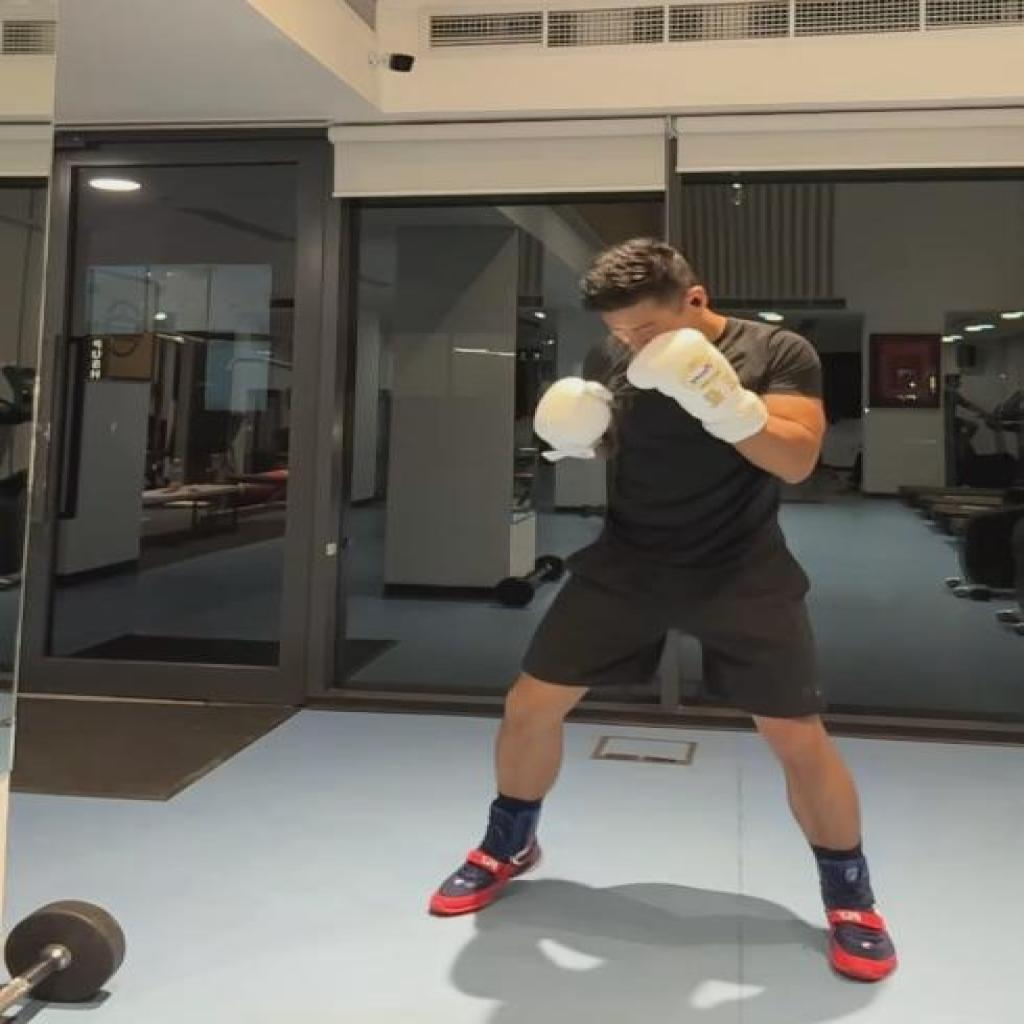no punch: (426, 237, 903, 982)
